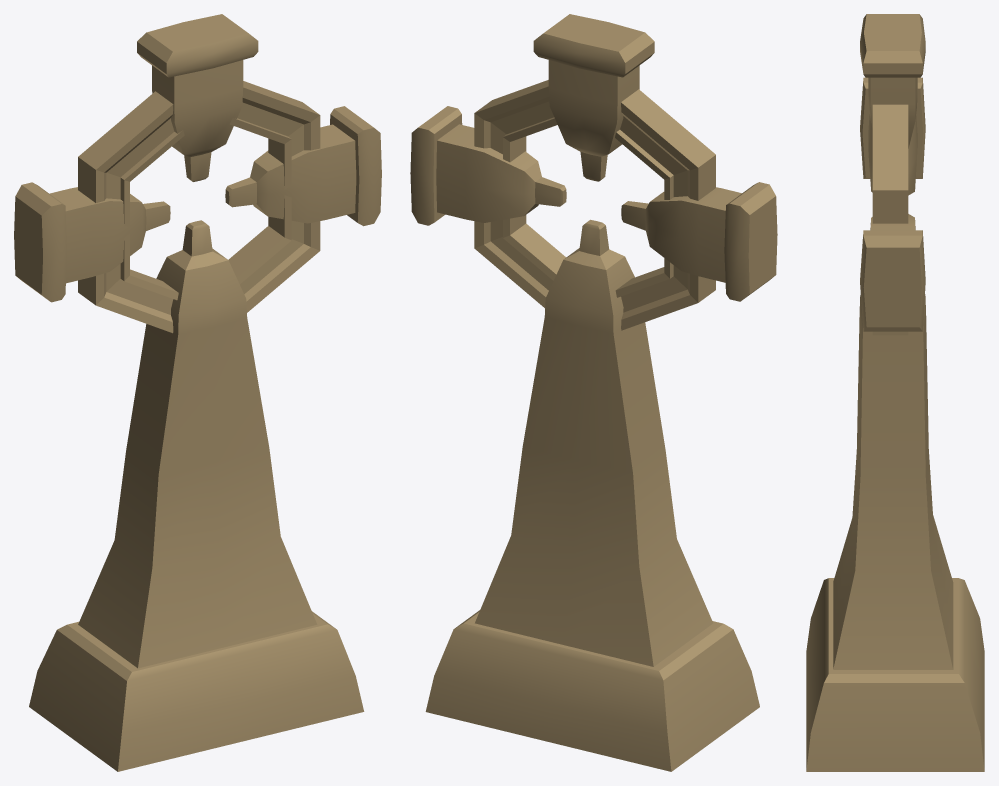
File: NadgroybKrest.fbx
The picture shows the model from 3 angles, left to right: view 1: azimuth 30°, elevation 25°; view 2: azimuth 150°, elevation 25°; view 3: azimuth 270°, elevation 25°; orthographic projection.
Visible parts, largest first — view 1: Cylinder.001; view 2: Cylinder.001; view 3: Cylinder.001.
Part boxes in pixels (<box>): Cylinder.001: <box>14,14,381,771</box>; Cylinder.001: <box>410,14,777,771</box>; Cylinder.001: <box>806,14,984,771</box>.
Size of the model in its own units: 107 by 205 by 48.82.
